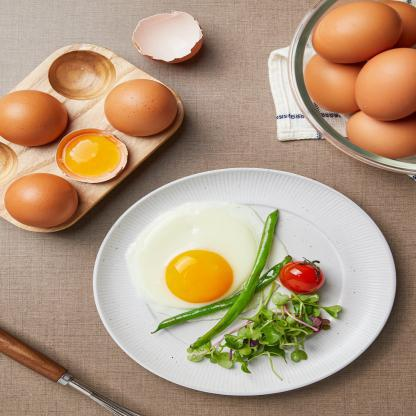egg: (0, 158, 111, 233), (99, 73, 201, 146), (294, 3, 416, 64), (354, 38, 416, 138), (0, 86, 83, 152)
